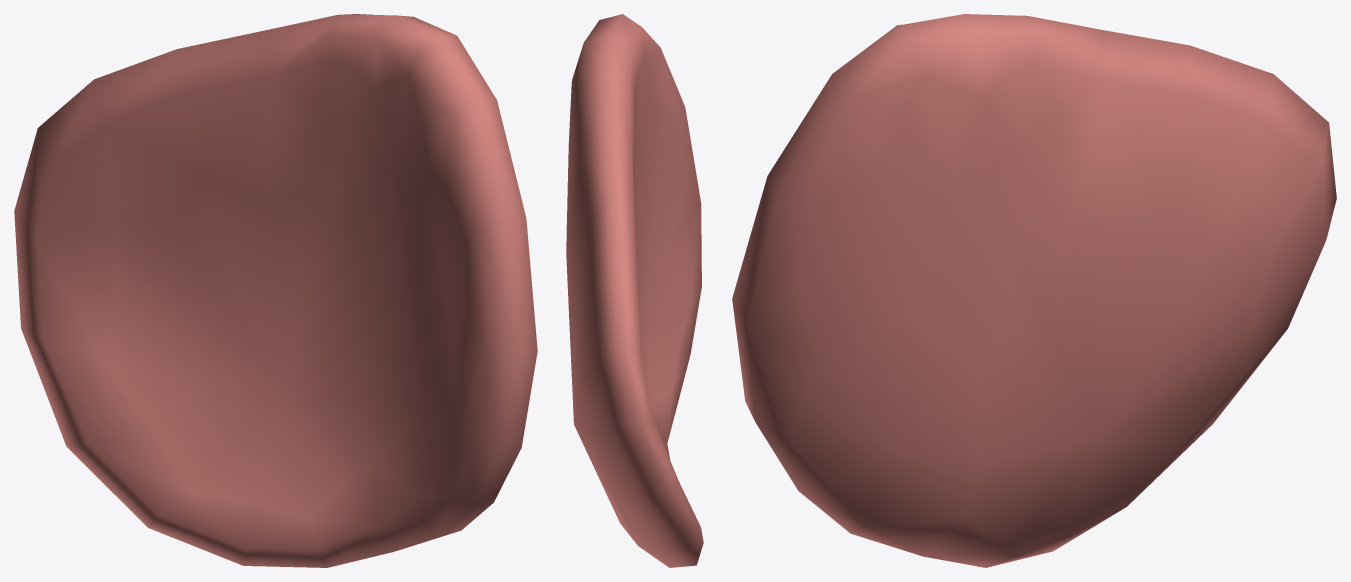
3 views of the same model, side by side, from view 1: azimuth 30°, elevation 25°; view 2: azimuth 150°, elevation 25°; view 3: azimuth 270°, elevation 25° (orthographic). The views are drawn at different scales.
Visible parts, largest first — view 1: ZA_012e1d05a74c4c66; view 2: ZA_012e1d05a74c4c66; view 3: ZA_012e1d05a74c4c66.
Part boxes in pixels (x1,y1,x2,y2): ZA_012e1d05a74c4c66: (14, 14, 537, 567); ZA_012e1d05a74c4c66: (566, 14, 703, 567); ZA_012e1d05a74c4c66: (732, 14, 1336, 567).
Size of the model in its own units: 0.00215 by 0.00401 by 0.00375.
